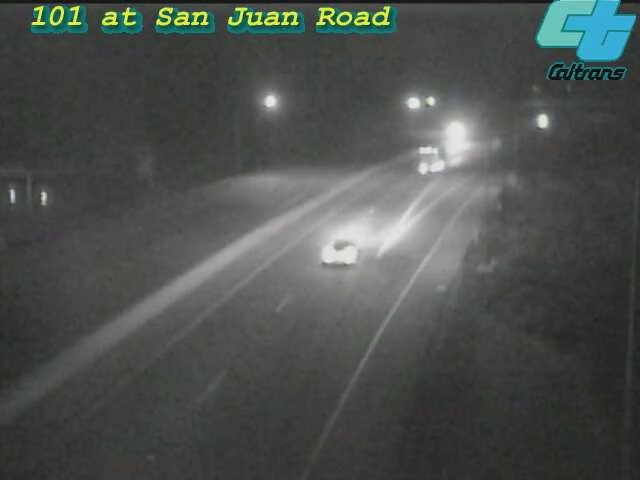vehicle: (302, 208, 382, 288), (429, 105, 479, 155), (518, 97, 568, 147), (434, 119, 484, 169), (406, 133, 456, 183)
